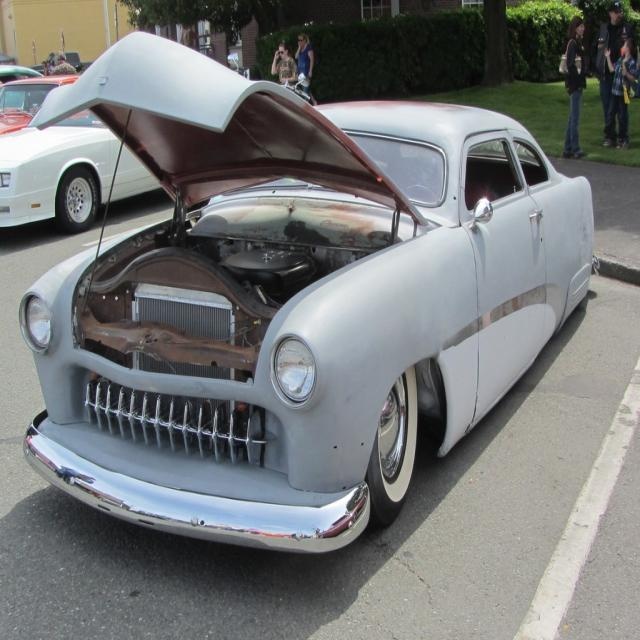car: (18, 29, 598, 553)
